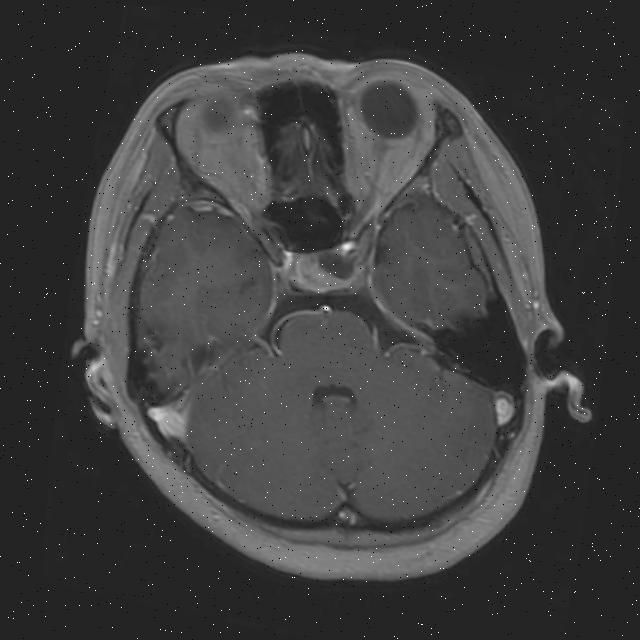Pituitary: (286, 240, 356, 300)
